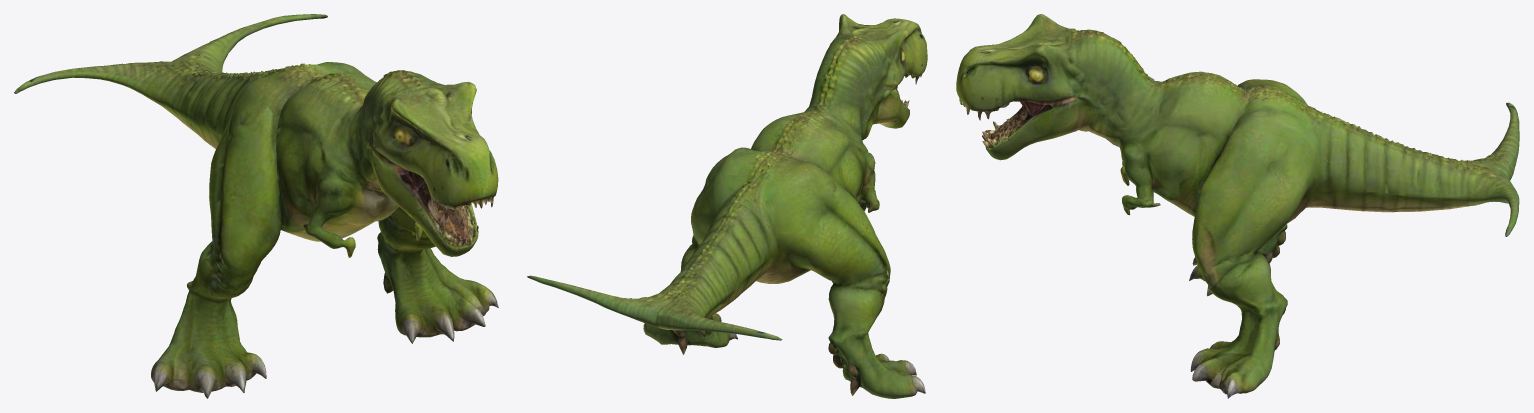
The picture shows the model from 3 angles, left to right: view 1: azimuth 30°, elevation 25°; view 2: azimuth 150°, elevation 25°; view 3: azimuth 270°, elevation 25°; orthographic projection. The views are drawn at different scales.
Size of the model in its own units: 1.23 by 1.17 by 2.
Materials: 1 (1 with a texture image).
